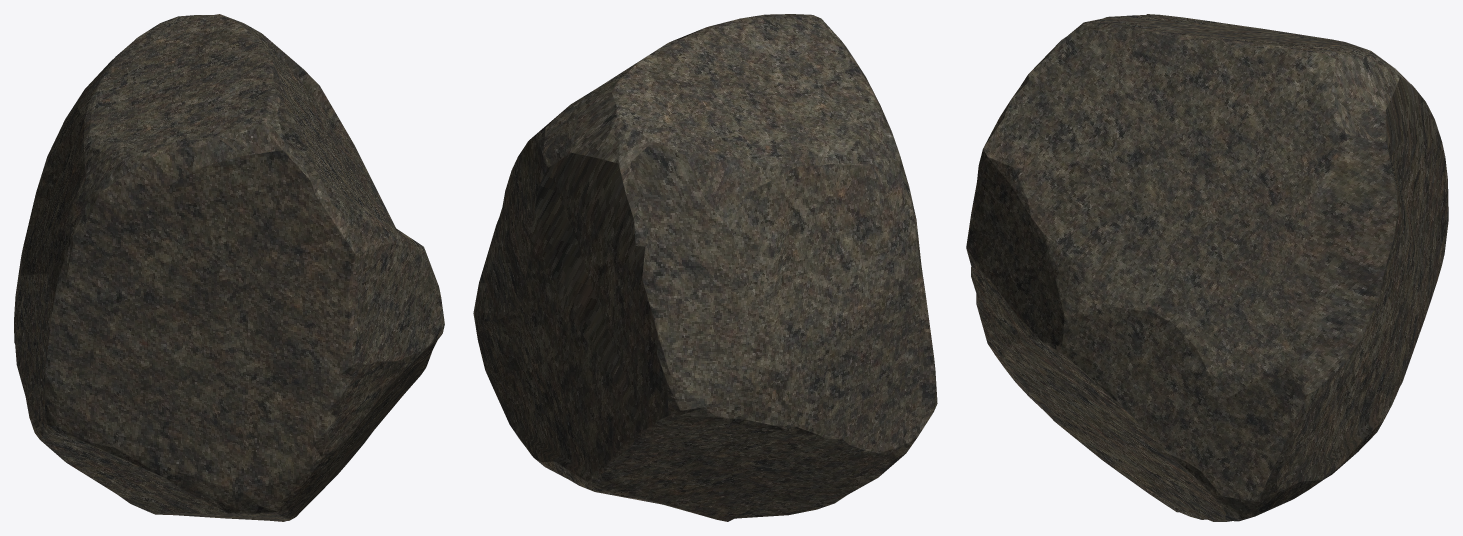
The model's file is boulder.glb.
The picture shows the model from 3 angles, left to right: view 1: azimuth 30°, elevation 25°; view 2: azimuth 150°, elevation 25°; view 3: azimuth 270°, elevation 25°; orthographic projection. The views are drawn at different scales.
Visible parts, largest first — view 1: boulder_1m_mkI; view 2: boulder_1m_mkI; view 3: boulder_1m_mkI.
Part boxes in pixels (<box>): boulder_1m_mkI: <box>14,14,444,521</box>; boulder_1m_mkI: <box>473,14,937,521</box>; boulder_1m_mkI: <box>966,14,1448,521</box>.
Bounding box in the file's own units: 2.77 × 3.13 × 2.93.
1 material, 1 textured.
